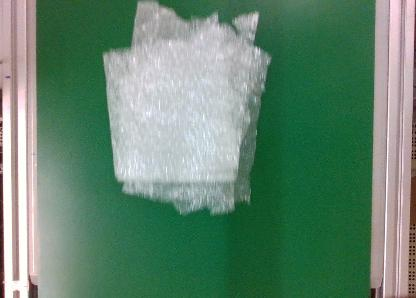Others: (101, 1, 272, 215)
